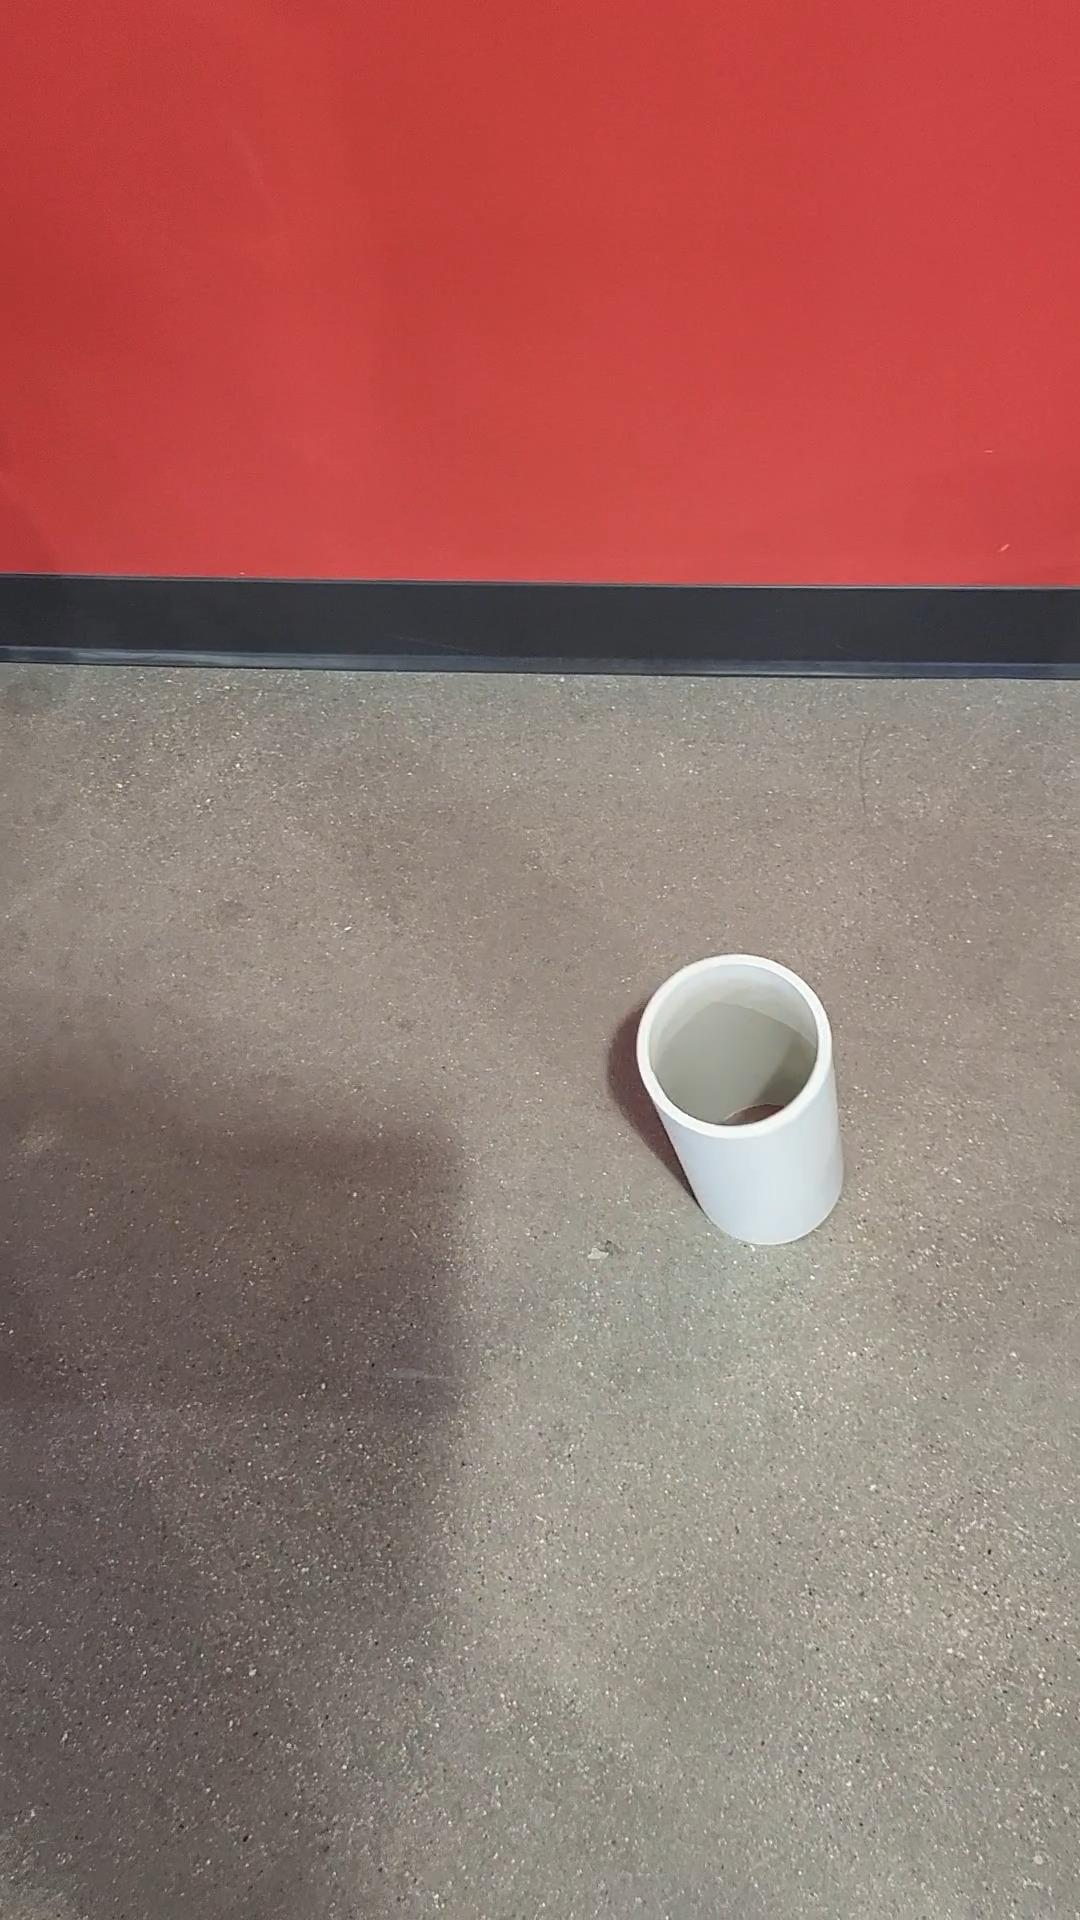coral: (646, 951, 870, 1245)
